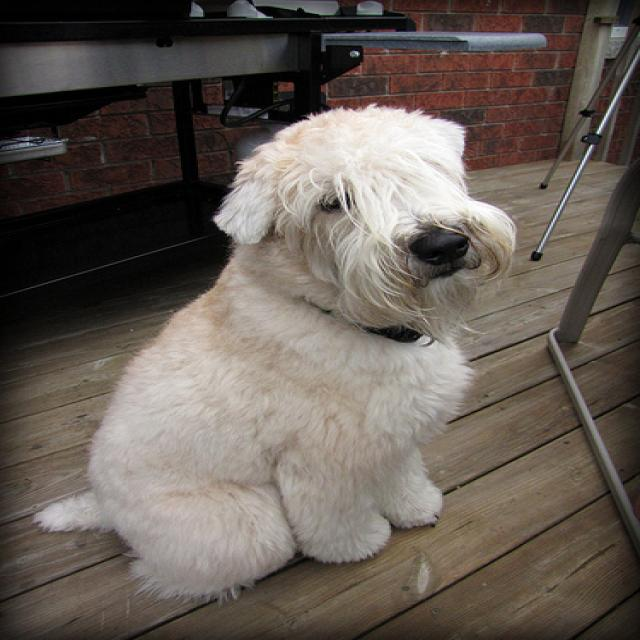dog-wheaten_terrier: (20, 99, 539, 614)
